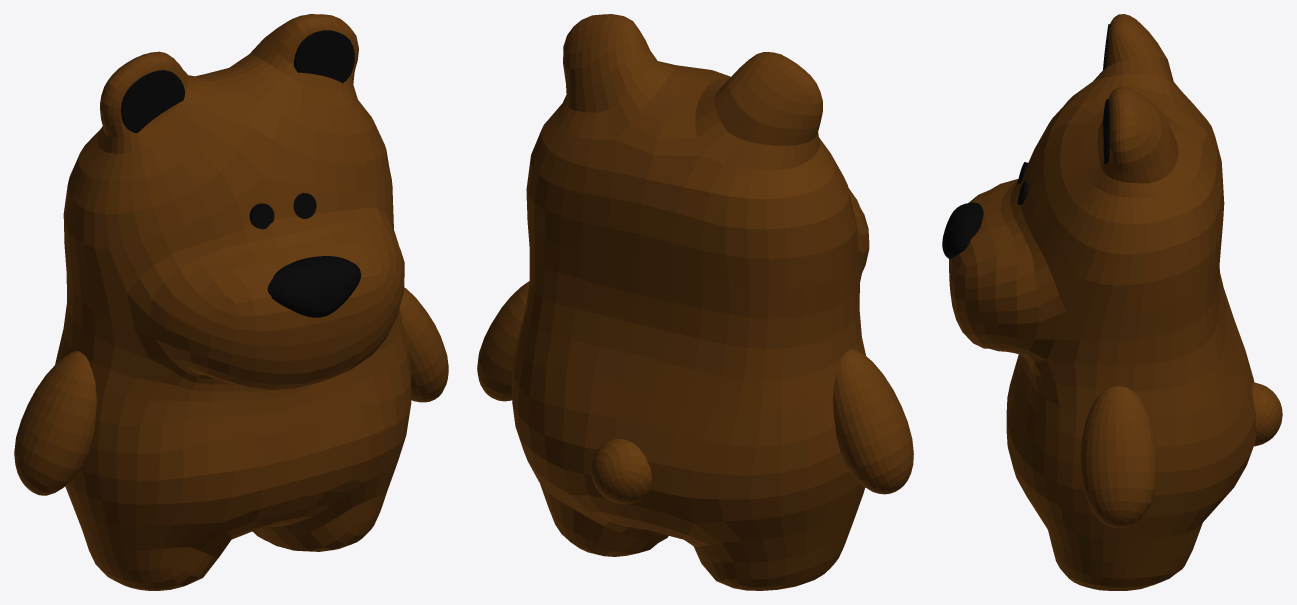
The model's file is bear.fbx.
3 renders of one model, left to right at view 1: azimuth 30°, elevation 25°; view 2: azimuth 150°, elevation 25°; view 3: azimuth 270°, elevation 25°, orthographic. The views are drawn at different scales.
Parts seen in each view (by area): view 1: Bear Body; view 2: Bear Body; view 3: Bear Body.
Boxes of the visible parts, left/top/right/bottom form: Bear Body: left=14, top=14, right=448, bottom=590; Bear Body: left=477, top=14, right=913, bottom=590; Bear Body: left=942, top=14, right=1282, bottom=590.
Bounding box in the file's own units: 133 × 156 × 98.55.
